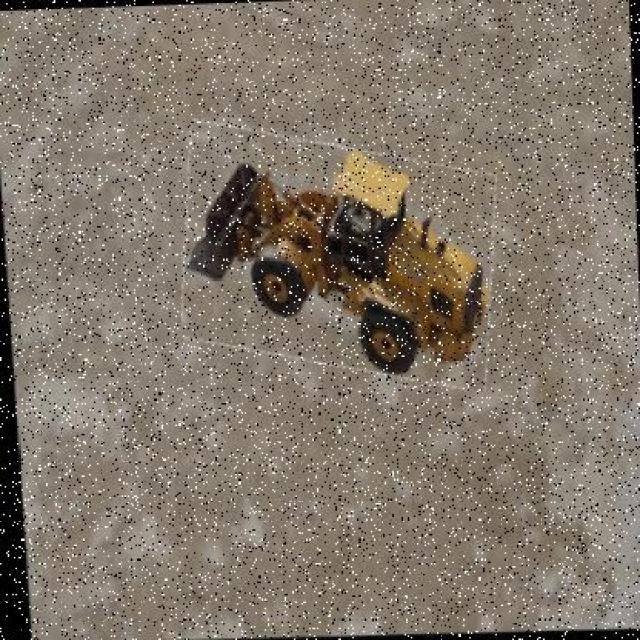buldozerpayloadergrader: (185, 146, 490, 382)
